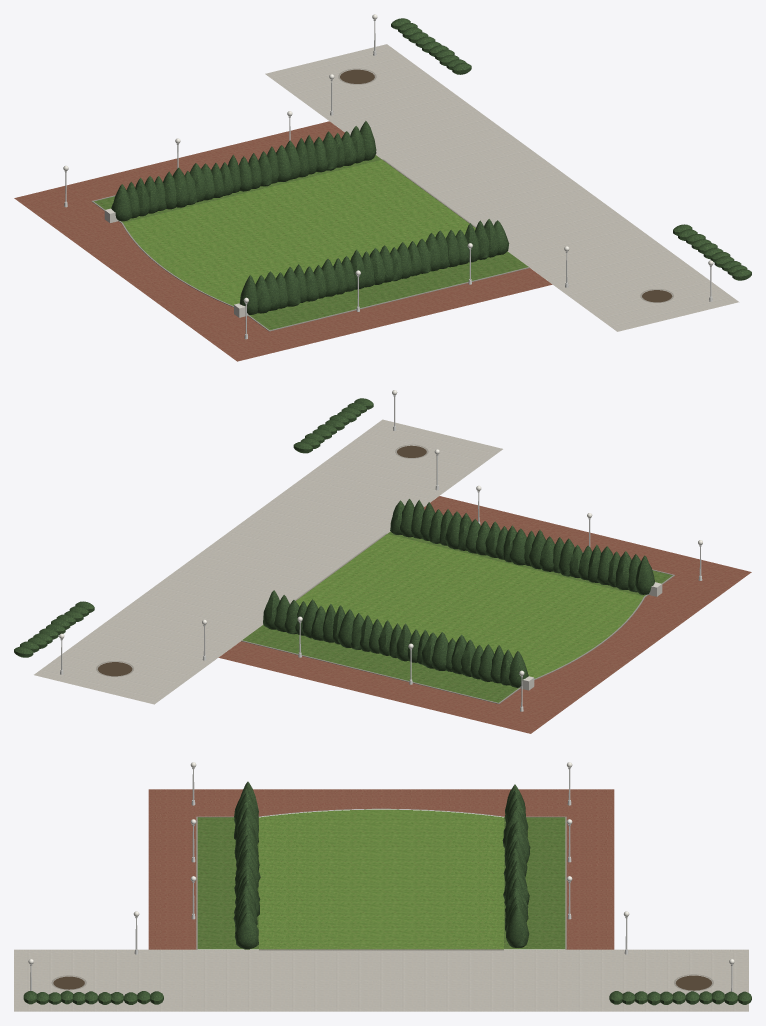
Rendered from campus_lib_lawn.glb.
The picture shows the model from 3 angles, top to bottom: view 1: azimuth 30°, elevation 25°; view 2: azimuth 150°, elevation 25°; view 3: azimuth 270°, elevation 25°; orthographic projection. The views are drawn at different scales.
Parts seen in each view (by area): view 1: ll_plaza, ll_lawn, ll_junipers, ll_brick, ll_lawn_rough, ll_curbs, ll_poles, ll_soil; view 2: ll_plaza, ll_lawn, ll_junipers, ll_brick, ll_lawn_rough, ll_curbs, ll_poles, ll_soil; view 3: ll_plaza, ll_lawn, ll_brick, ll_junipers, ll_lawn_rough, ll_curbs, ll_poles, ll_soil.
Boxes of the visible parts, x1,y1,x2,y2 form: ll_plaza: (265, 44, 739, 331); ll_lawn: (123, 159, 475, 305); ll_junipers: (111, 18, 751, 314); ll_brick: (14, 121, 552, 361); ll_lawn_rough: (94, 155, 528, 329); ll_curbs: (91, 68, 673, 331); ll_poles: (64, 19, 712, 339); ll_soil: (340, 69, 672, 302); ll_plaza: (34, 419, 502, 704); ll_lawn: (296, 534, 643, 678); ll_junipers: (14, 398, 654, 687); ll_brick: (218, 496, 751, 733); ll_lawn_rough: (242, 531, 672, 702); ll_curbs: (96, 444, 674, 703); ll_poles: (60, 395, 702, 711); ll_soil: (97, 445, 426, 676); ll_plaza: (14, 949, 748, 1011); ll_lawn: (259, 809, 503, 949); ll_brick: (148, 789, 614, 949); ll_junipers: (23, 781, 751, 1005); ll_lawn_rough: (197, 817, 565, 949); ll_curbs: (51, 808, 713, 991); ll_poles: (30, 767, 732, 991); ll_soil: (53, 975, 711, 990).
Bounding box in the file's own units: 45.08 × 3.88 × 60.24.
Materials: 10 (6 with a texture image).
